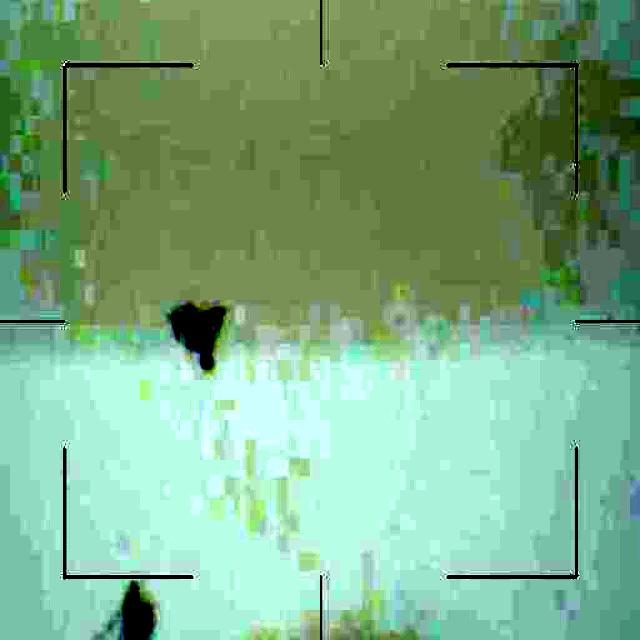bird: (170, 298, 231, 369)
